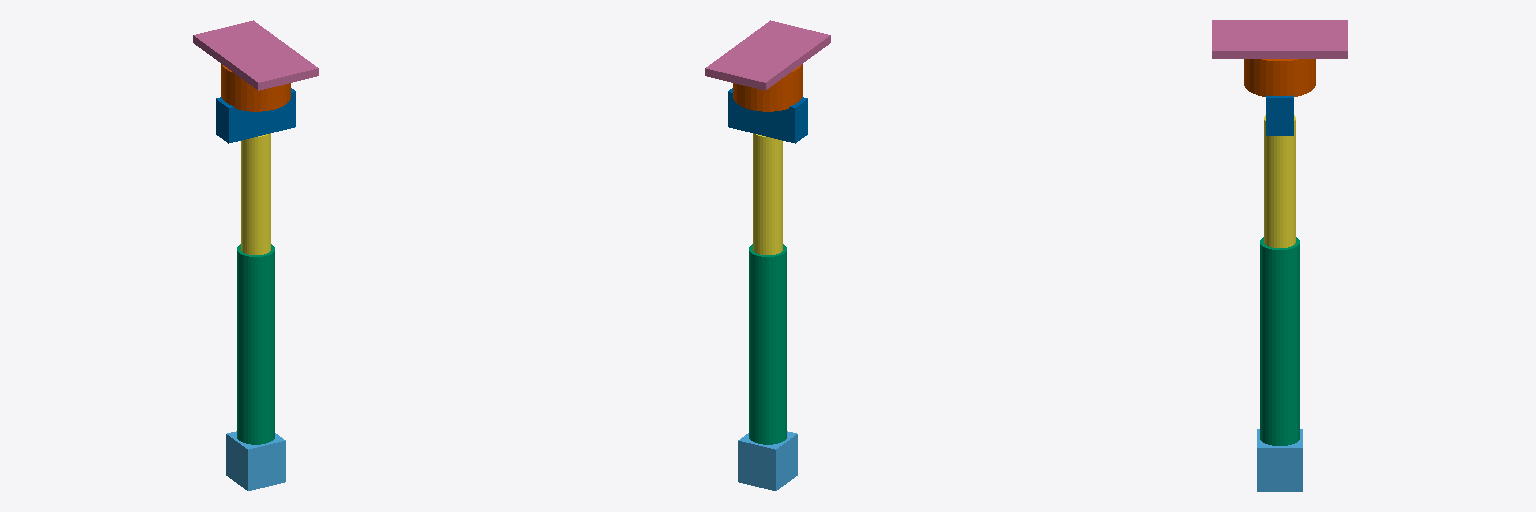
The robot description file, URDF, robot "robot_arm":
<robot name="robot_arm">
 	<link name="base_link">
		<visual>
		    <origin xyz="0 0 0.0225" rpy="0 0 0"/>
		</visual>	
	</link>

    <link name="base_rot">
		<visual>
          	<geometry>
                <box size="0.05 0.05 0.053" />
			</geometry>
		</visual>	
	</link>
    
    <joint name="base_joint" type="revolute">
      <parent link="base_link"/>
      <child link="base_rot"/>
      <origin xyz="0 0 0.072" rpy="0 0 0" />
      <axis xyz="0 0 -1"/>
    </joint>
    
    <link name="arm1">
		<visual>
          <origin xyz="0 0 0.119" rpy="0 0 0" />
          	<geometry>
            	<cylinder length="0.238" radius="0.022"/>
			</geometry>
		</visual>	
	</link>
    <joint name="shoulder_joint" type="revolute">
      <parent link="base_rot"/>
      <child link="arm1"/>
      <origin xyz="0 0 0.027" rpy="0 0 0" />
      <axis xyz="1 0 0"/>
      <limit lower="-1.57" upper="1.57" />
    </joint>
    
    <link name="arm2">
		<visual>
          <origin xyz="0 0 0.075" rpy="0 0 0" />
          	<geometry>
            	<cylinder length="0.150" radius="0.0175"/>
			</geometry>
		</visual>	
	</link>
    
    <link name="tilt">
		<visual>
          <origin xyz="0 0 0.0225" rpy="0 0 0" />
          	<geometry>
            	<box size="0.09 0.03 0.045" />
			</geometry>
		</visual>	
    </link>
    
    <link name="top">
		<visual>
          <origin xyz="0 0 0.02" rpy="0 0 0" />
          	<geometry>
            	<cylinder length="0.045" radius="0.04"/>
			</geometry>
		</visual>	
	</link>
    
    <link name="camera">
		<visual>
          <origin xyz="0 0 0.005" rpy="0 0 0" />
          	<geometry>
            	<box size="0.08 0.15 0.01" />
			</geometry>
		</visual>	
	</link>
    
    <joint name="elbow_joint" type="revolute">
      <parent link="arm1"/>
      <child link="arm2"/>
      <origin xyz="0 0 0.238" rpy="0 0 0" />
      <axis xyz="1 0 0"/>
        <limit lower="-1.92" upper="1.92" />
    </joint>
    
    <joint name="rot_joint" type="revolute">
      <parent link="arm2"/>
      <child link="tilt"/>
      <origin xyz="0 0 0.15" rpy="0 0 0" />
      <axis xyz="0 0 -1"/>
      <limit lower="-1.57" upper="2.8" />       
    </joint>
    
    <joint name="tilt_joint" type="revolute">
      <parent link="tilt"/>
      <child link="top"/>
      <origin xyz="0 0 0.045" rpy="0 0 0" />
      <axis xyz="-1 0 0"/>
      <limit lower="-1.78" upper="0.48" />       
    </joint>
    
    <joint name="rot2_joint" type="revolute">
      <parent link="top"/>
      <child link="camera"/>
      <origin xyz="0 0 0.045" rpy="0 0 0" />
      <axis xyz="0 0 1"/>
      <limit lower="-2.88" upper="2.1" />
    </joint>
    
</robot>

--- What the picture shows (computed from the rendered views, not written in the file) ---
The picture shows the robot from 3 angles, left to right: view 1: azimuth 30°, elevation 25°; view 2: azimuth 150°, elevation 25°; view 3: azimuth 270°, elevation 25°; orthographic projection.
Robot: robot_arm — 7 links, 6 joints (6 revolute); root link base_link; default pose: all joints at 0.
Visible links, largest first — view 1: arm1, camera, arm2, base_rot, tilt, top; view 2: arm1, camera, arm2, base_rot, tilt, top; view 3: arm1, camera, arm2, top, base_rot, tilt.
Boxes of the visible links, bbox=[...] form: arm1: bbox=[237, 244, 274, 444]; camera: bbox=[193, 20, 318, 90]; arm2: bbox=[241, 133, 270, 254]; base_rot: bbox=[226, 431, 285, 490]; tilt: bbox=[216, 88, 295, 143]; top: bbox=[221, 64, 290, 111]; arm1: bbox=[749, 244, 786, 444]; camera: bbox=[705, 20, 830, 90]; arm2: bbox=[753, 133, 782, 254]; base_rot: bbox=[738, 431, 797, 490]; tilt: bbox=[728, 88, 807, 143]; top: bbox=[733, 64, 802, 111]; arm1: bbox=[1260, 237, 1299, 445]; camera: bbox=[1212, 20, 1347, 58]; arm2: bbox=[1264, 115, 1295, 247]; top: bbox=[1244, 59, 1315, 96]; base_rot: bbox=[1257, 429, 1302, 491]; tilt: bbox=[1266, 95, 1293, 135].
Size in the robot's own frame: 0.09 by 0.15 by 0.5415 metres.
Geometry: primitives only (box / cylinder / sphere), no mesh files.